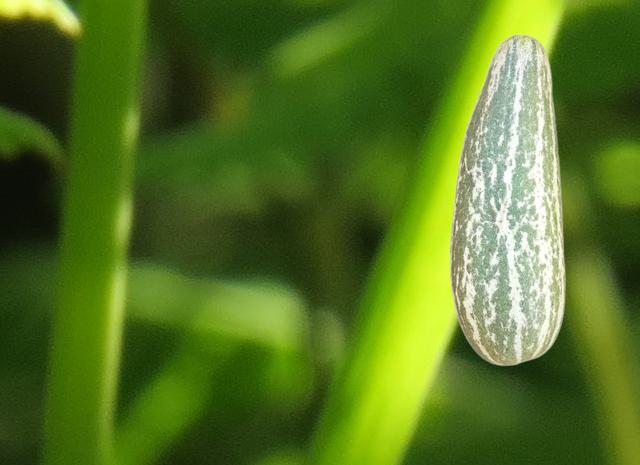cucumber: (449, 33, 565, 365)
